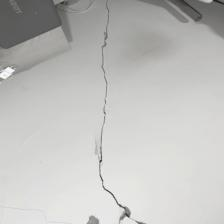Medium: (72, 6, 149, 220)
